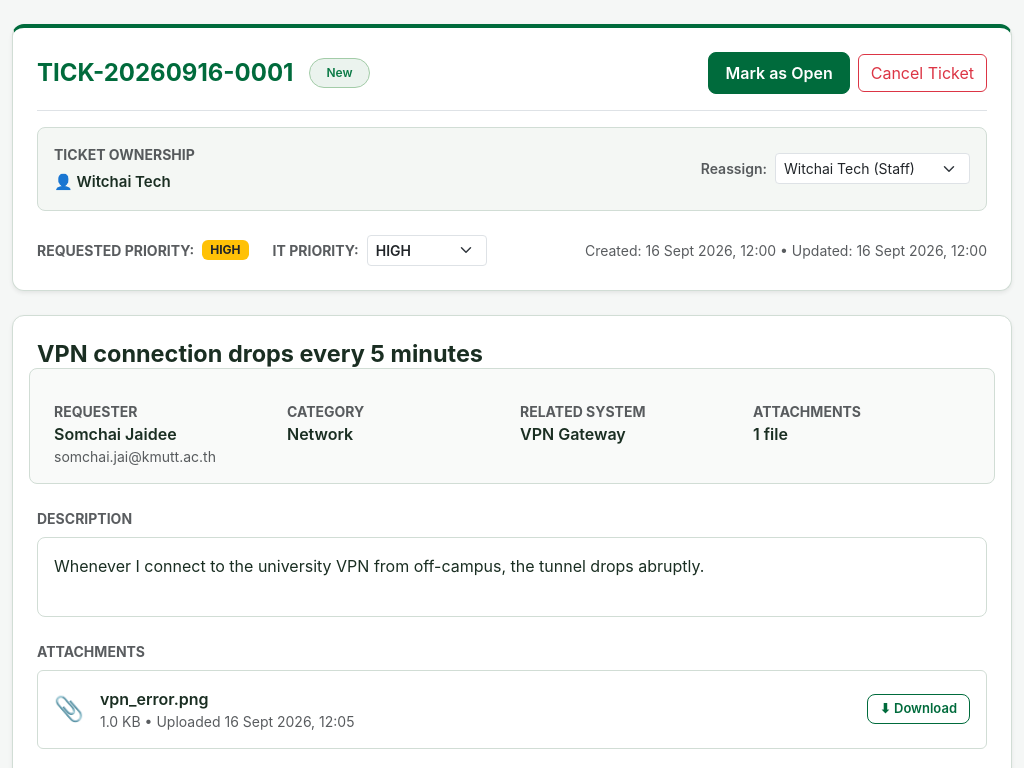
Scenario: StaffTicketDetail Component UI Tests (DETAIL-UI-01) › Ticket Ownership Bar (Claim & Reassign Controls) › reassigns ticket to another active IT Staff member via Reassign control
The width and height of the screenshot is (1024, 768).
Check: the text with test id "current-owner-display" shows "Witchai Tech", box x1=54 y1=172 x2=171 y2=191
Step 1. Select "Kamon Support (Staff)" in the dropdown with test id "reassign-owner-select" → (872, 169), box x1=775 y1=153 x2=970 y2=184
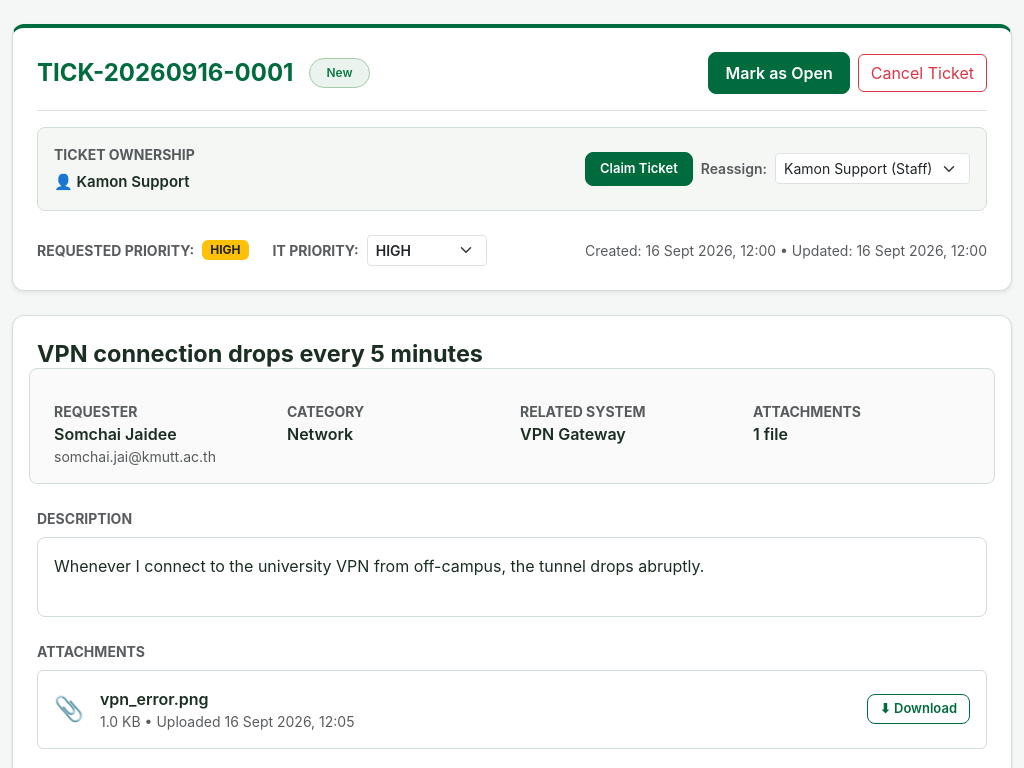
Check: the text with test id "current-owner-display" shows "Kamon Support", box x1=54 y1=172 x2=190 y2=191
